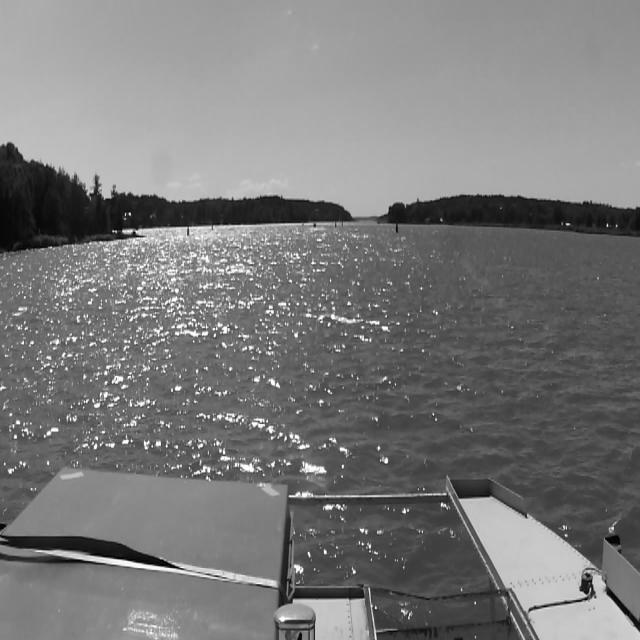buoy: (394, 212, 400, 239), (186, 217, 192, 240), (340, 214, 344, 228)
ship: (312, 218, 318, 228)
